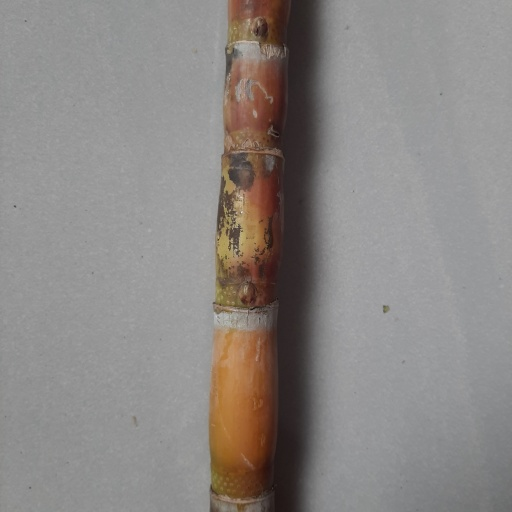Bud: (236, 281, 258, 310)
